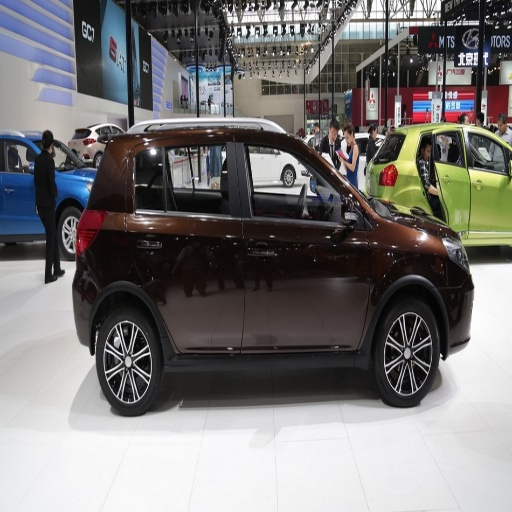front_right_door: (234, 128, 369, 346)
